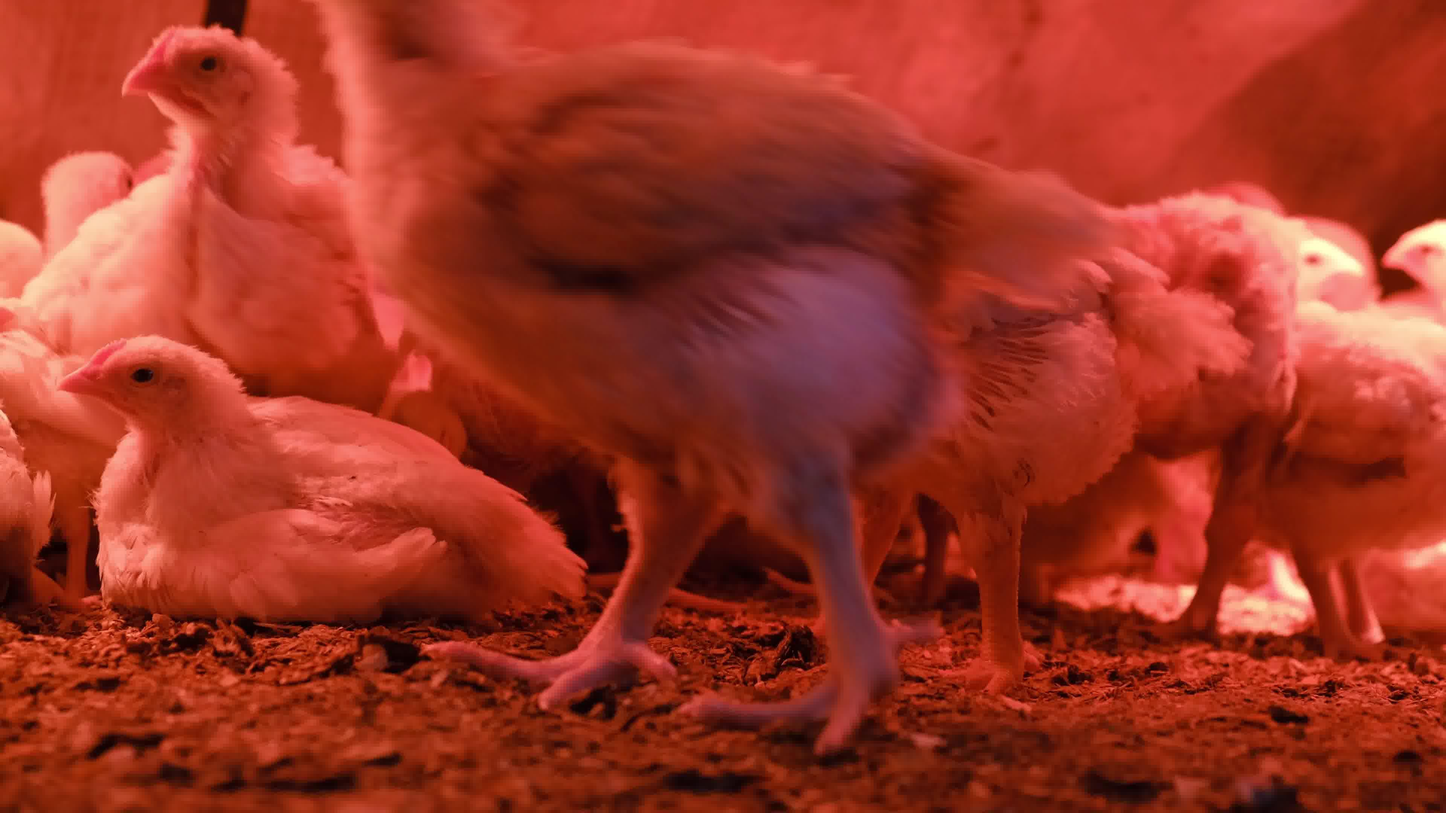AbNormal: (58, 331, 578, 668), (0, 273, 107, 664)
Normal: (299, 0, 990, 747), (975, 120, 1260, 694), (1201, 265, 1446, 700), (79, 0, 403, 309), (1252, 194, 1405, 326), (45, 136, 190, 258), (0, 177, 58, 299), (1374, 216, 1446, 311)
